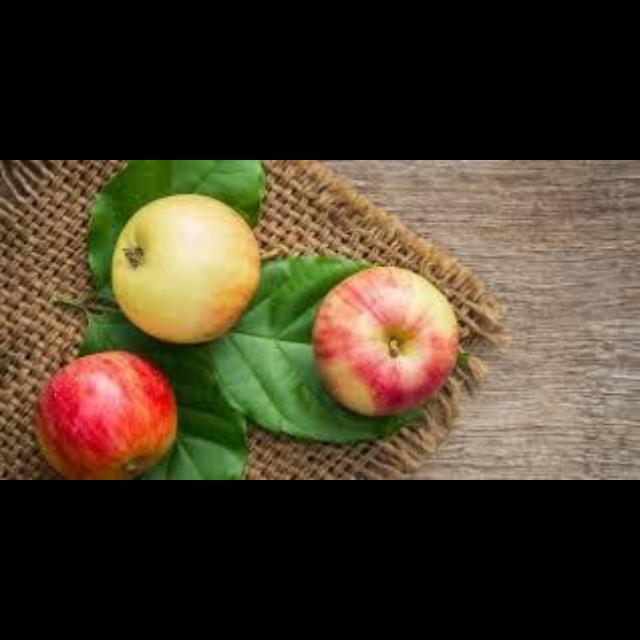apple: (113, 194, 260, 341), (312, 267, 457, 414), (36, 351, 175, 478)
